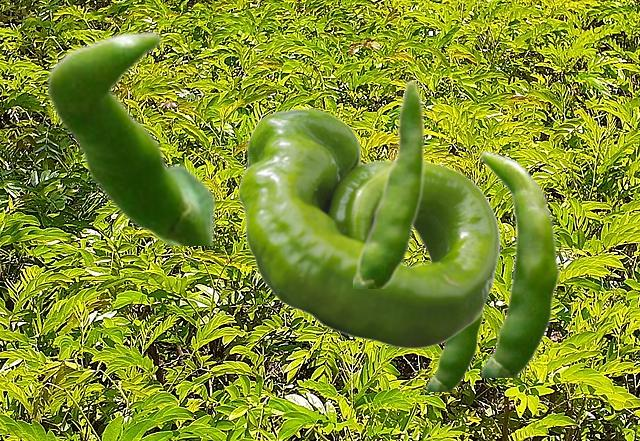green_chili: (238, 108, 499, 348), (46, 30, 213, 244), (478, 149, 560, 376), (353, 78, 425, 287), (425, 313, 483, 390)
